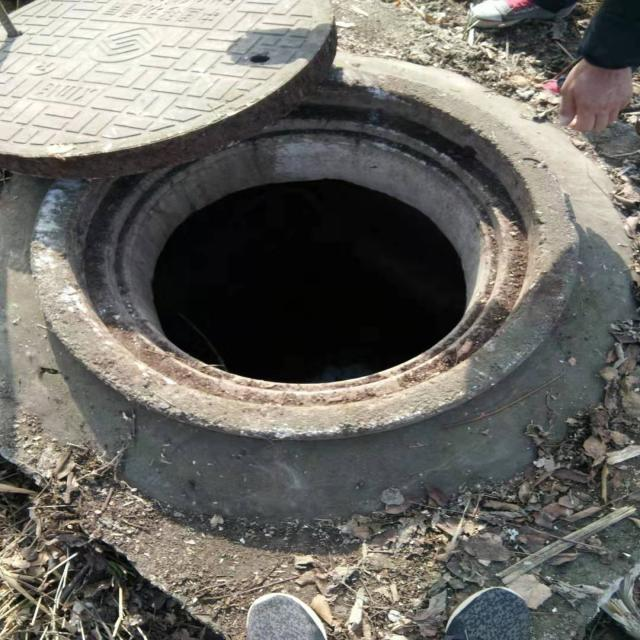Faulty: (4, 0, 582, 436)
